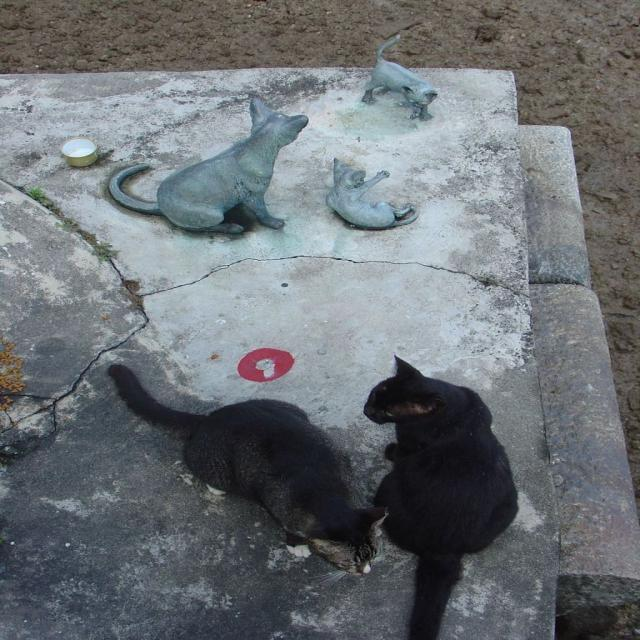Cat: (108, 359, 388, 577), (368, 351, 524, 639), (105, 91, 309, 238), (329, 156, 418, 232), (364, 32, 437, 122)
